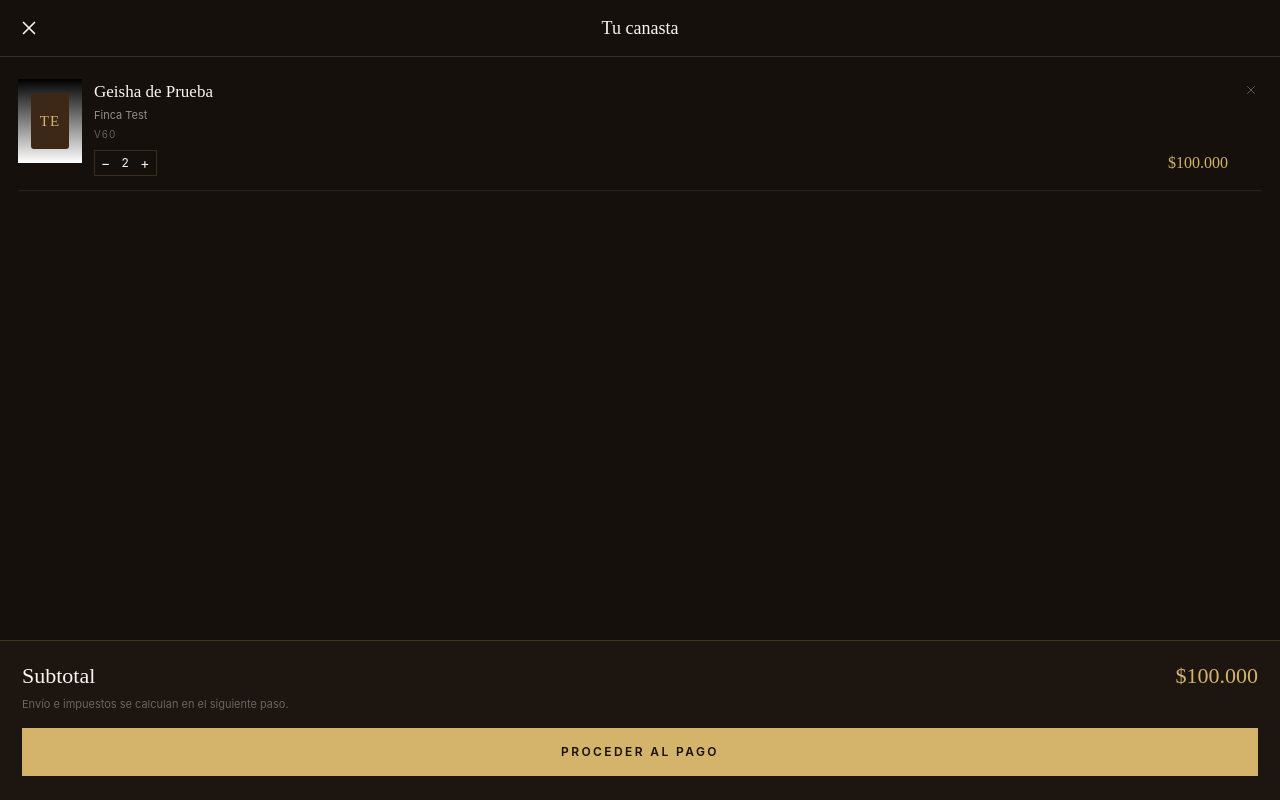
Test case: CartView — checkout › valida el formato del email
Click the button "PROCEDER AL PAGO": (640, 752) [22,728,1258,776]
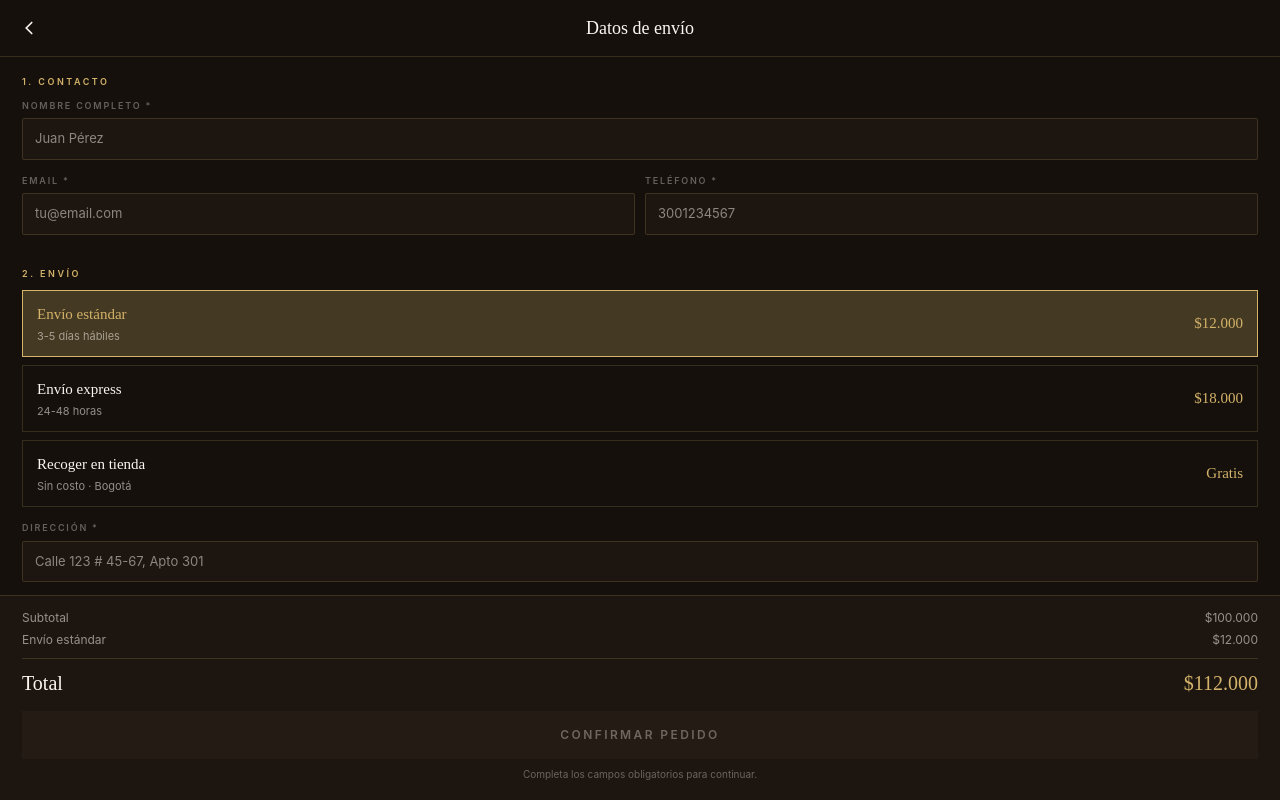
In the field with placeholder "Juan Pérez": (640, 139) [22,118,1258,160], type "Ana Prueba"
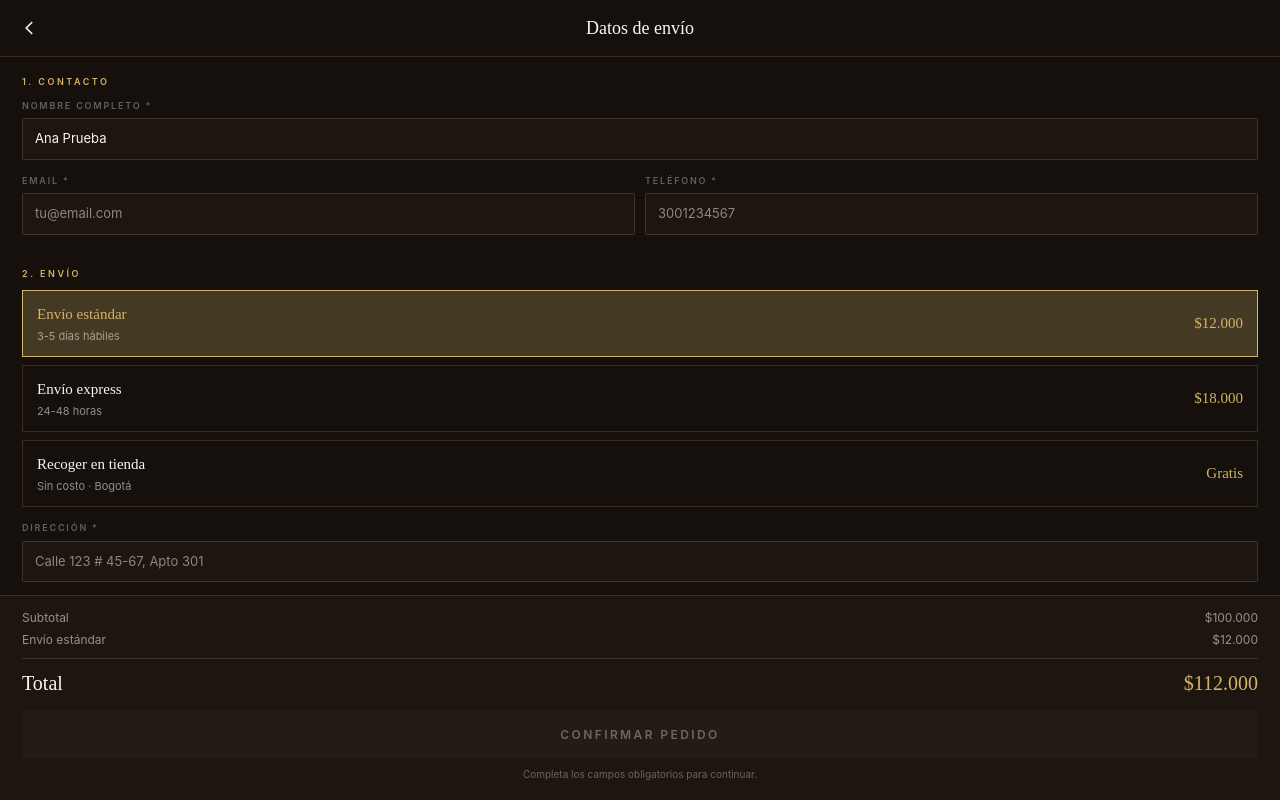
In the field with placeholder "tu@email.com": (328, 214) [22,193,635,234], type "ana@test.com"
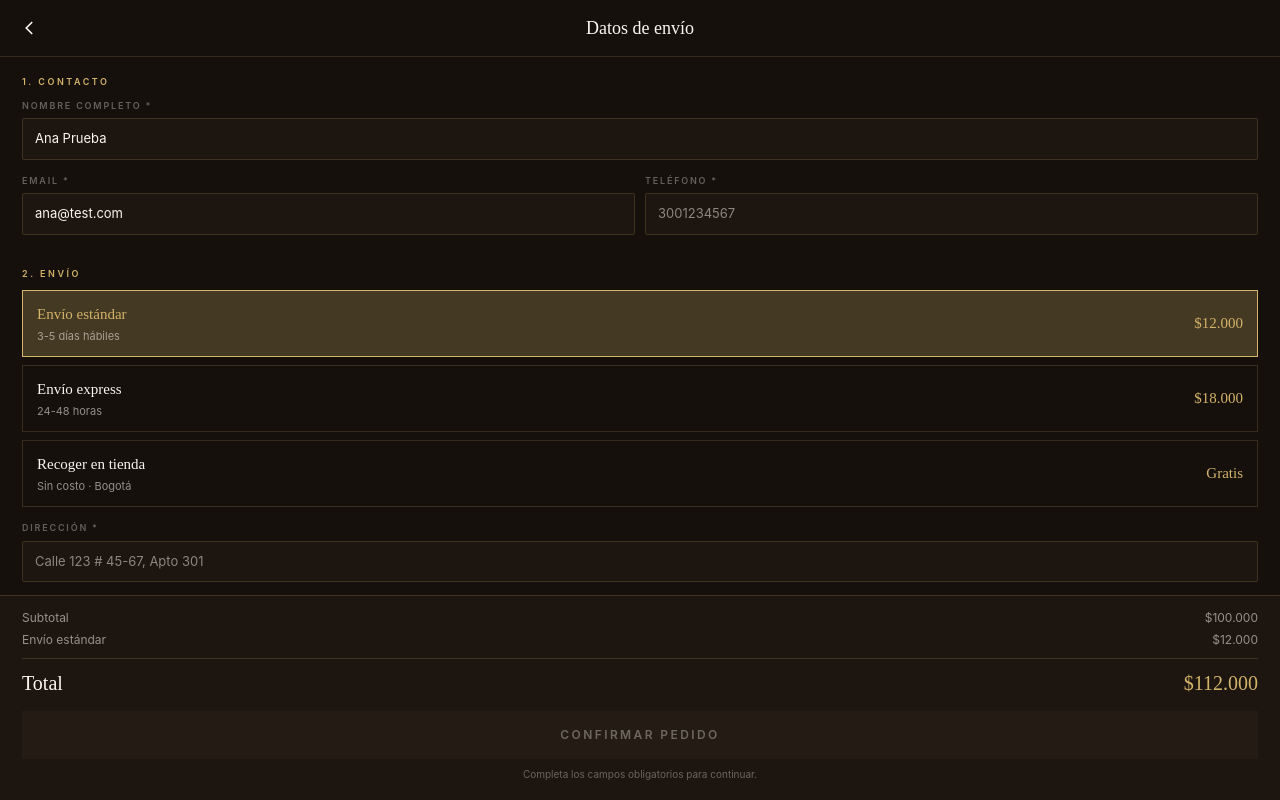
In the field with placeholder "3001234567": (952, 214) [645,193,1258,234], type "3009998877"
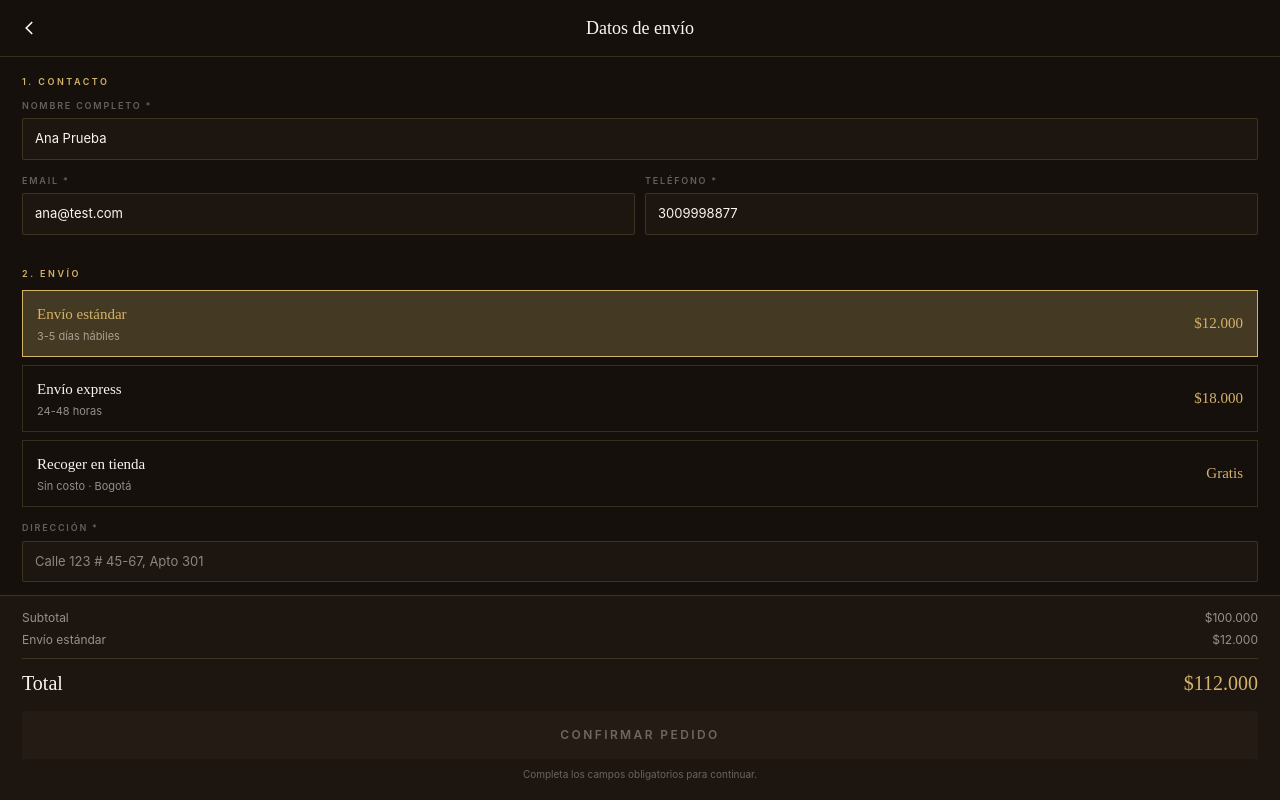
Click the text "Recoger en tienda": (91, 464) [37,453,145,476]
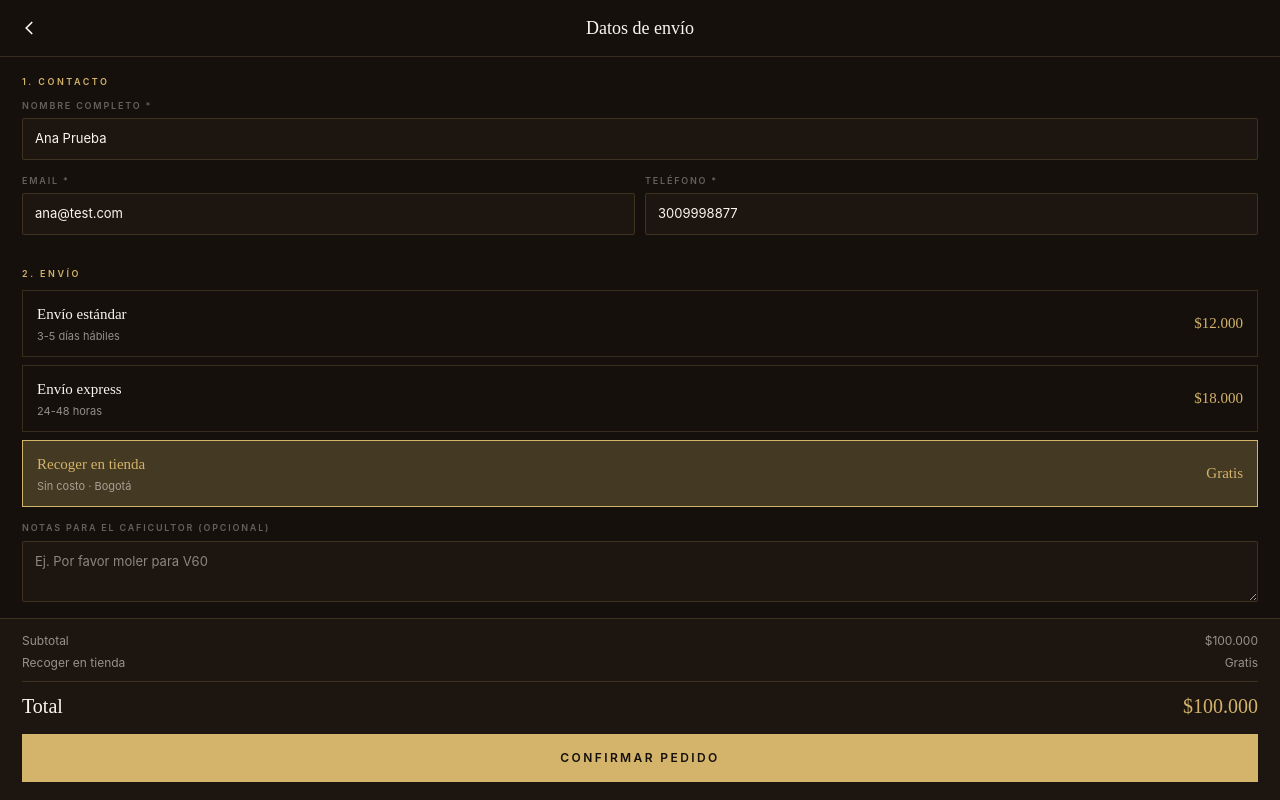
Replace the text in the field with placeholder "tu@email.com" below "Email *" with "no-es-email": (328, 214) [22,193,635,234]
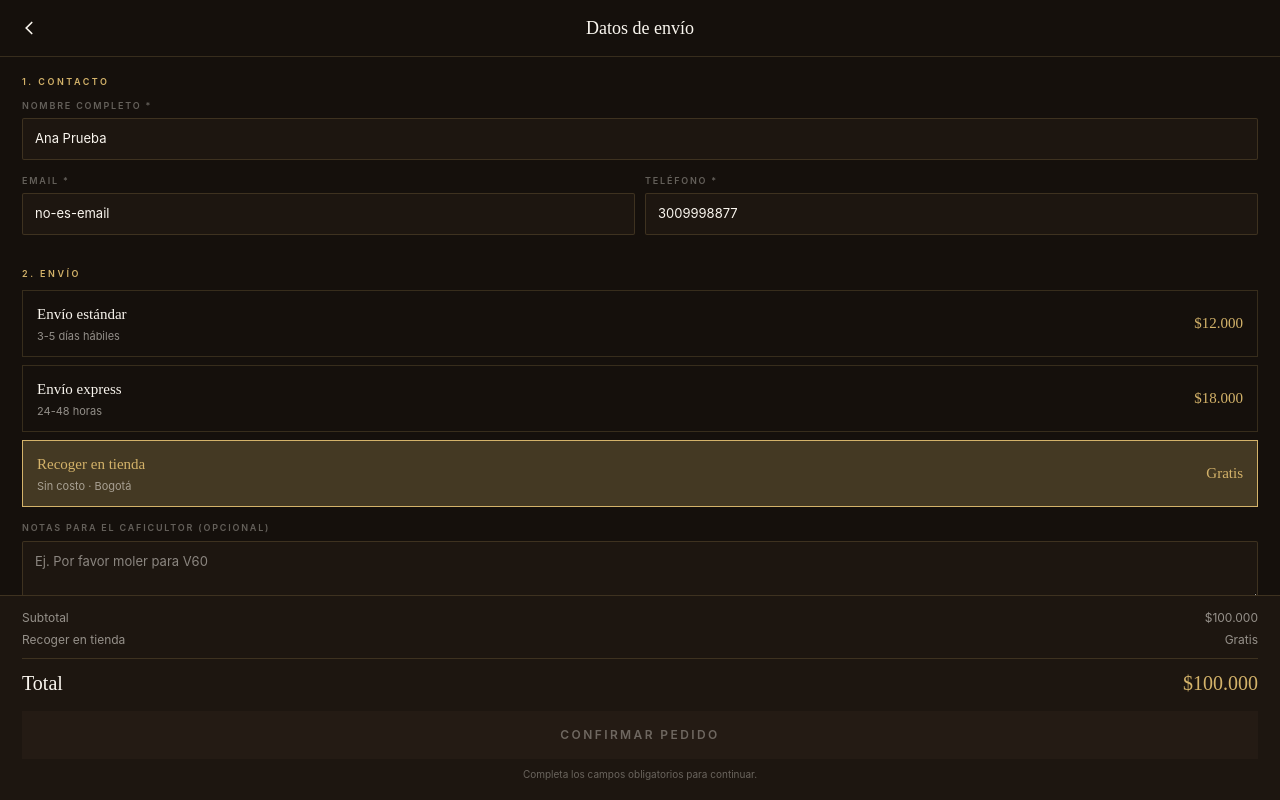
Expected: the button "CONFIRMAR PEDIDO" is disabled, [22,711,1258,759]
